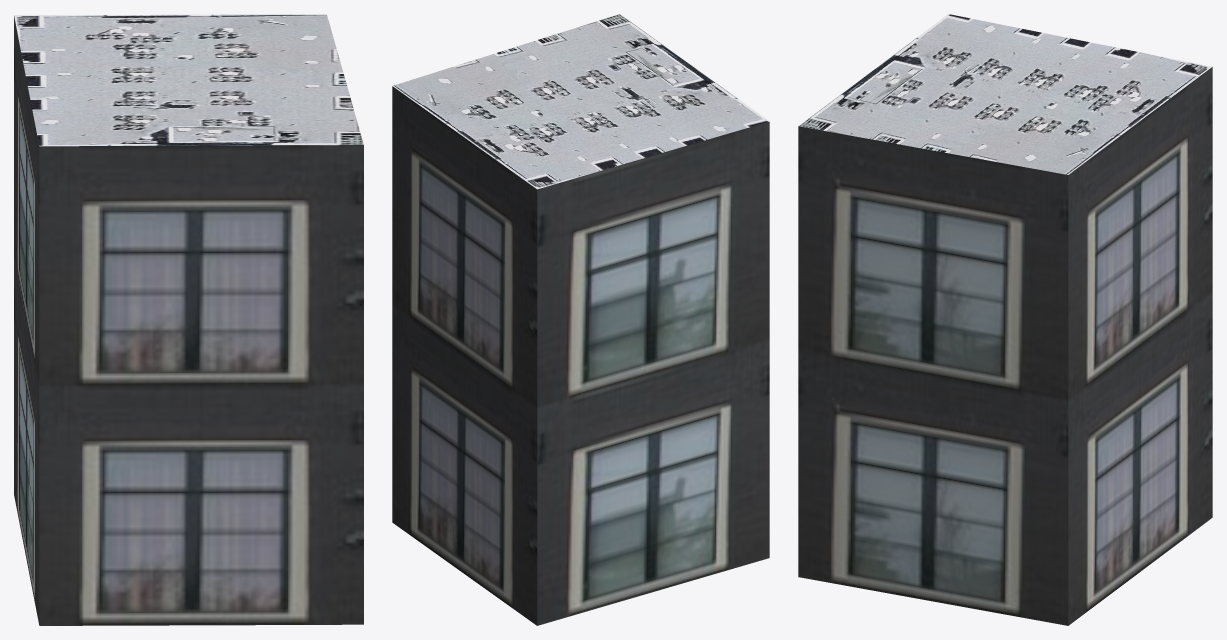
The model's file is ResTex__2574.fbx.
3 renders of one model, left to right at view 1: azimuth 30°, elevation 25°; view 2: azimuth 150°, elevation 25°; view 3: azimuth 270°, elevation 25°, orthographic. The views are drawn at different scales.
Visible parts, largest first — view 1: CityEngineMaterial_22_m, CityEngineMaterial_8_m; view 2: CityEngineMaterial_22_m, CityEngineMaterial_8_m; view 3: CityEngineMaterial_22_m, CityEngineMaterial_8_m.
Part boxes in pixels (x1,y1,x2,y2): CityEngineMaterial_22_m: [14, 16, 363, 625]; CityEngineMaterial_8_m: [14, 14, 363, 146]; CityEngineMaterial_22_m: [392, 86, 769, 625]; CityEngineMaterial_8_m: [392, 14, 769, 189]; CityEngineMaterial_22_m: [798, 67, 1212, 625]; CityEngineMaterial_8_m: [799, 14, 1211, 174].
Size of the model in its own units: 4.6 by 6 by 4.99.
Materials: 2 (2 with a texture image).
